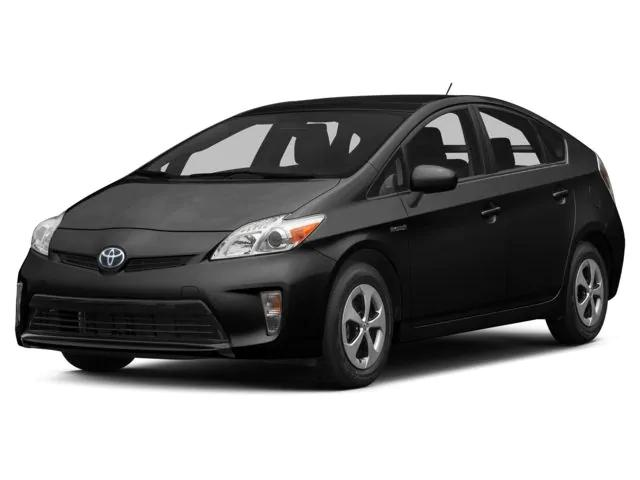Toyota Prius: (13, 92, 627, 390)
